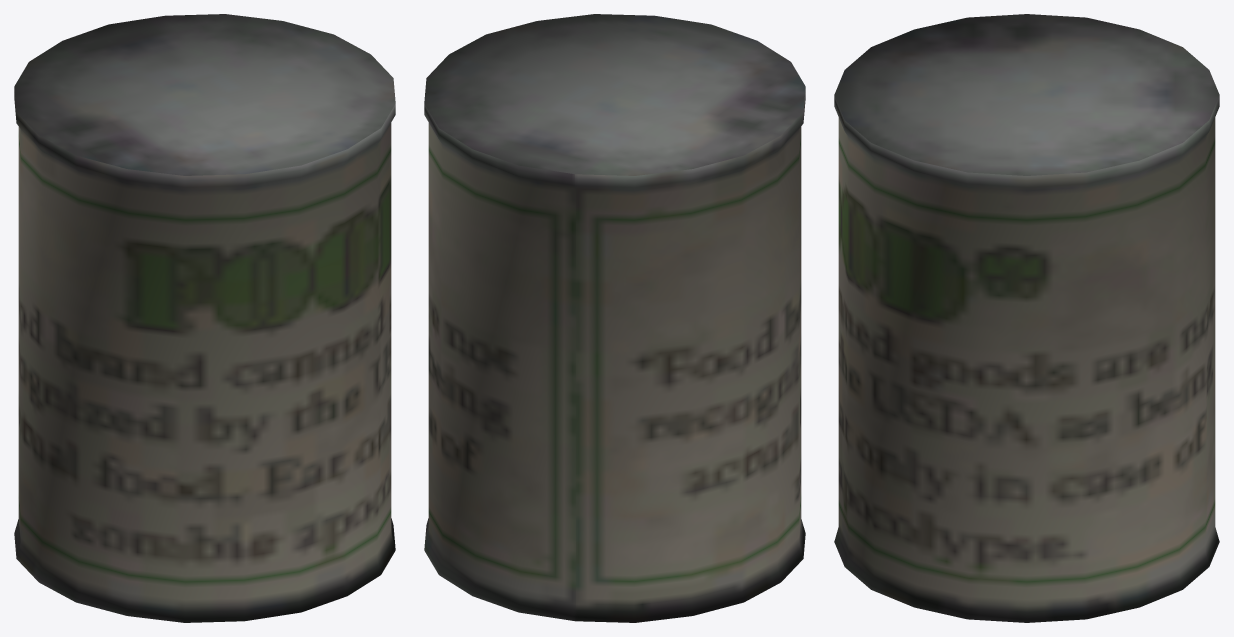
File: Common_Props_CannedFood_Beets_3P_LOD0.glb
3 renders of one model, left to right at view 1: azimuth 30°, elevation 25°; view 2: azimuth 150°, elevation 25°; view 3: azimuth 270°, elevation 25°, orthographic.
Parts seen in each view (by area): view 1: Hoodie; view 2: Hoodie; view 3: Hoodie.
Part boxes in pixels (<box>): Hoodie: <box>14,14,395,622</box>; Hoodie: <box>424,14,805,622</box>; Hoodie: <box>834,14,1219,622</box>.
Size of the model in its own units: 0.1008 by 0.1296 by 0.1013.
1 material, 1 textured.
